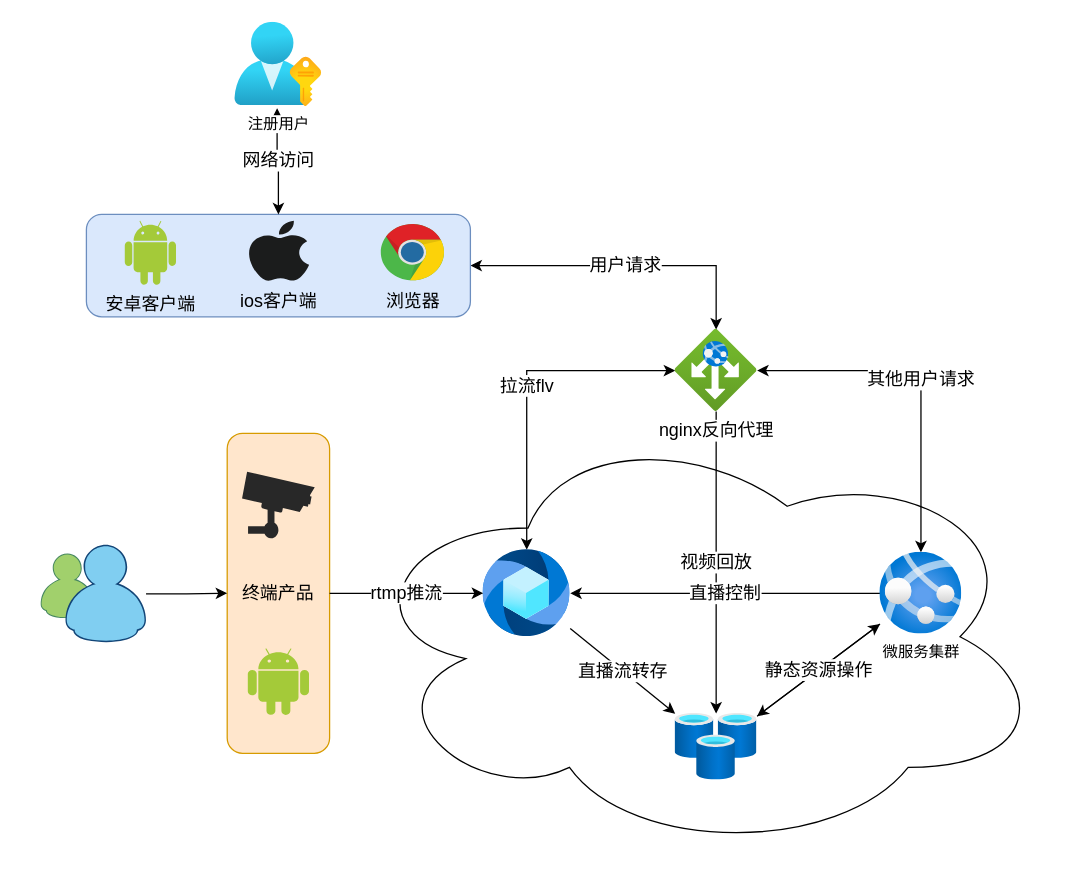
Image size: 1070x877. Some labels were removed from this diagram. The shapes that lost their labels are listed below. From the top down, each one's centre as x and y in pixels, then its label:
pixel 92 593: 终端产品用户集体
pixel 526 592: 流媒体服务器集群
pixel 715 746: 静态资源服务器集群
